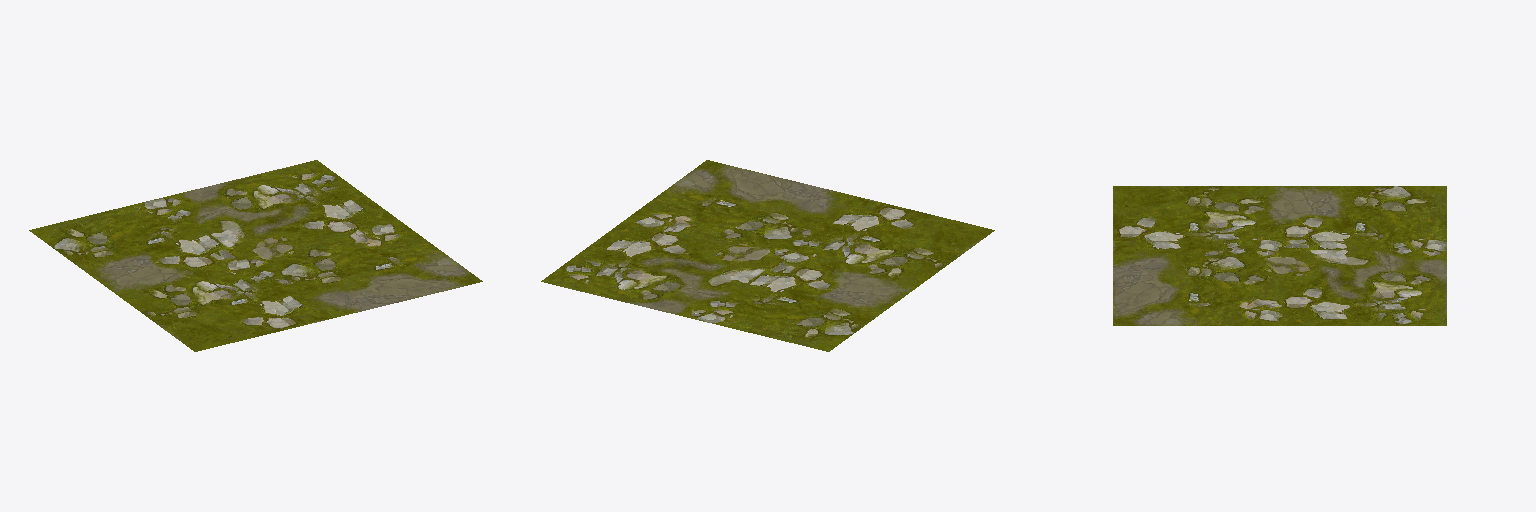
3 views of the same model, side by side, from view 1: azimuth 30°, elevation 25°; view 2: azimuth 150°, elevation 25°; view 3: azimuth 270°, elevation 25° (orthographic).
Visible parts, largest first — view 1: Plane.001; view 2: Plane.001; view 3: Plane.001.
Part boxes in pixels (x1,y1,x2,y2): Plane.001: (29,160,482,351); Plane.001: (541,160,994,351); Plane.001: (1113,186,1446,325).
Size of the model in its own units: 20 by 0 by 20.
1 materials, 1 textured.